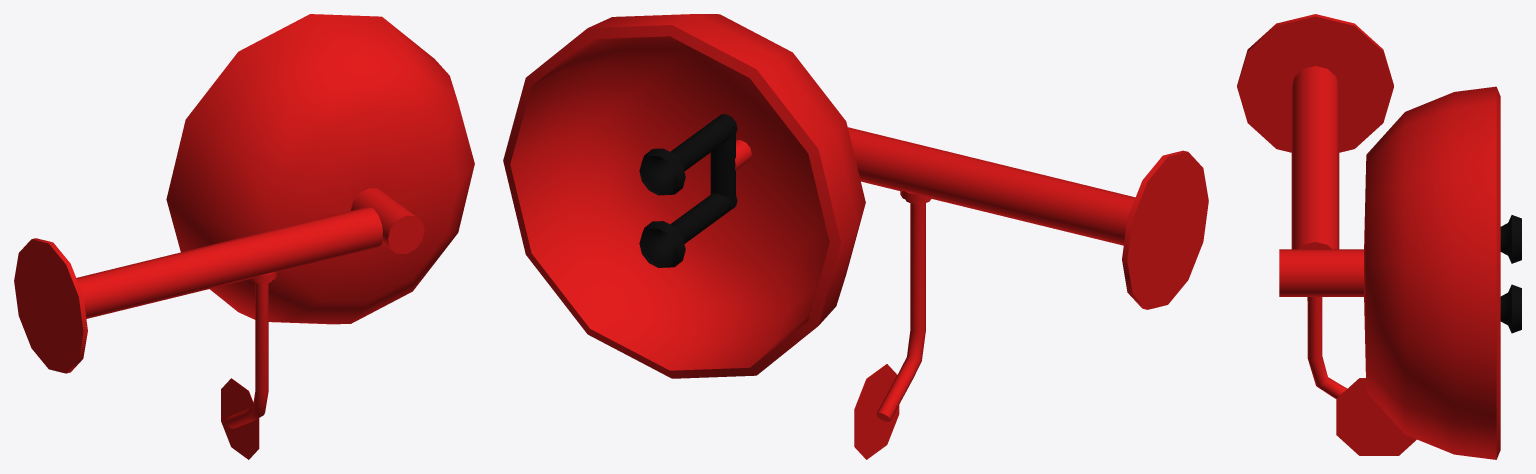
3 renders of one model, left to right at view 1: azimuth 30°, elevation 25°; view 2: azimuth 150°, elevation 25°; view 3: azimuth 270°, elevation 25°, orthographic. The views are drawn at different scales.
Parts seen in each view (by area): view 1: Circle; view 2: Circle; view 3: Circle.
Part boxes in pixels (<box>): Circle: <box>14,14,474,459</box>; Circle: <box>503,14,1208,459</box>; Circle: <box>1237,14,1521,459</box>.
Size of the model in its own units: 46.25 by 33.86 by 20.81.
